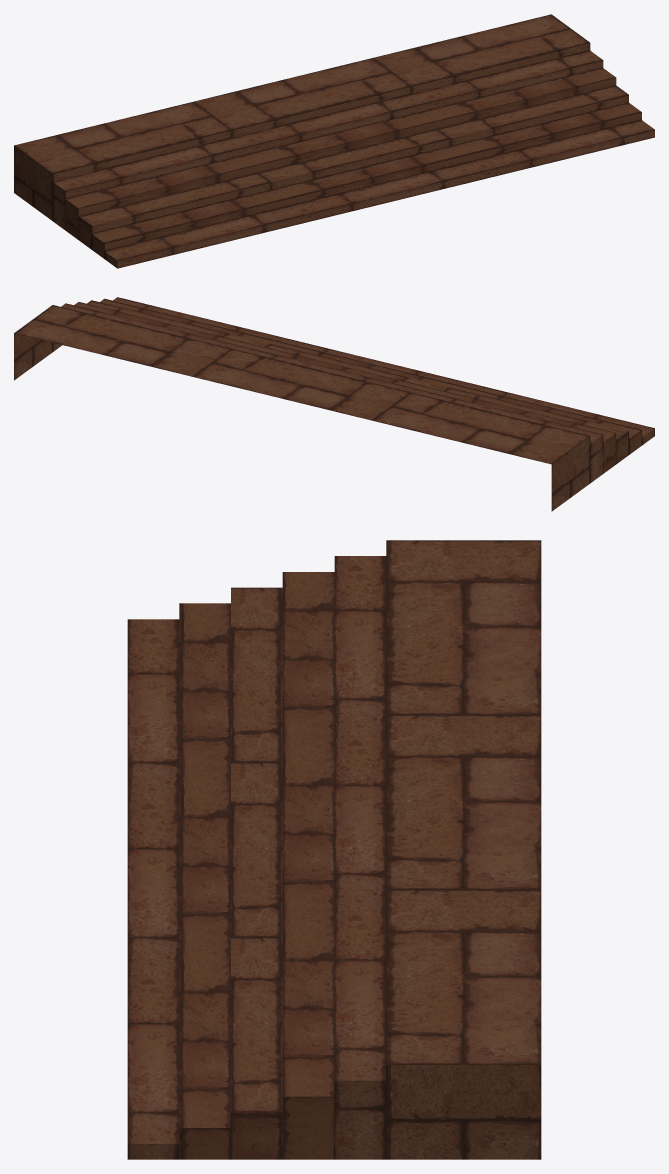
Rendered from Stairs_1x3.fbx.
3 renders of one model, top to bottom at view 1: azimuth 30°, elevation 25°; view 2: azimuth 150°, elevation 25°; view 3: azimuth 270°, elevation 25°, orthographic. The views are drawn at different scales.
Visible parts, largest first — view 1: Stairs_1x3; view 2: Stairs_1x3; view 3: Stairs_1x3.
Boxes of the visible parts, <box> form: Stairs_1x3: <box>14,14,654,268</box>; Stairs_1x3: <box>14,297,654,511</box>; Stairs_1x3: <box>127,540,541,1159</box>.
Bounding box in the file's own units: 349 × 29.47 × 116.
